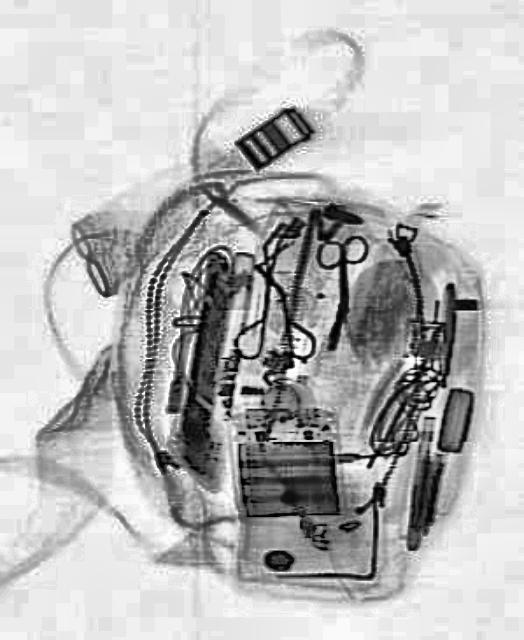Scissors: (314, 231, 370, 313)
